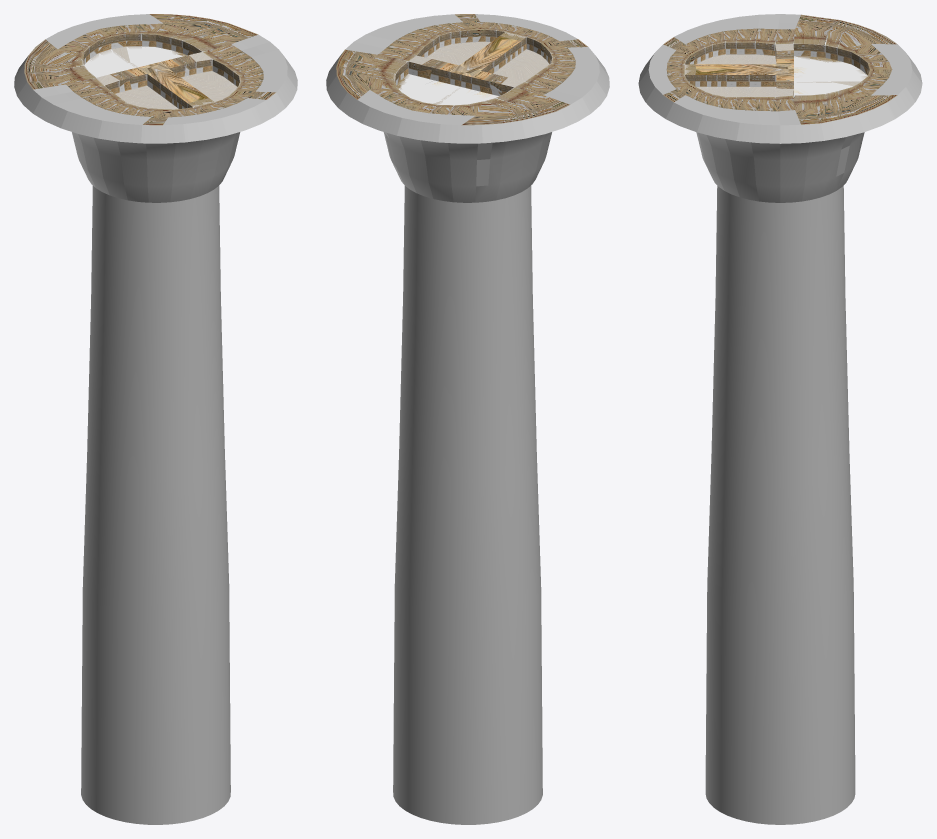
The model's file is Pillar.fbx.
The picture shows the model from 3 angles, left to right: view 1: azimuth 30°, elevation 25°; view 2: azimuth 150°, elevation 25°; view 3: azimuth 270°, elevation 25°; orthographic projection.
Parts seen in each view (by area): view 1: Pedestal; view 2: Pedestal; view 3: Pedestal.
Part boxes in pixels (<box>): Pedestal: <box>14,14,297,824</box>; Pedestal: <box>326,14,609,824</box>; Pedestal: <box>638,14,922,824</box>.
Bounding box in the file's own units: 22.37 × 62.86 × 22.37.
